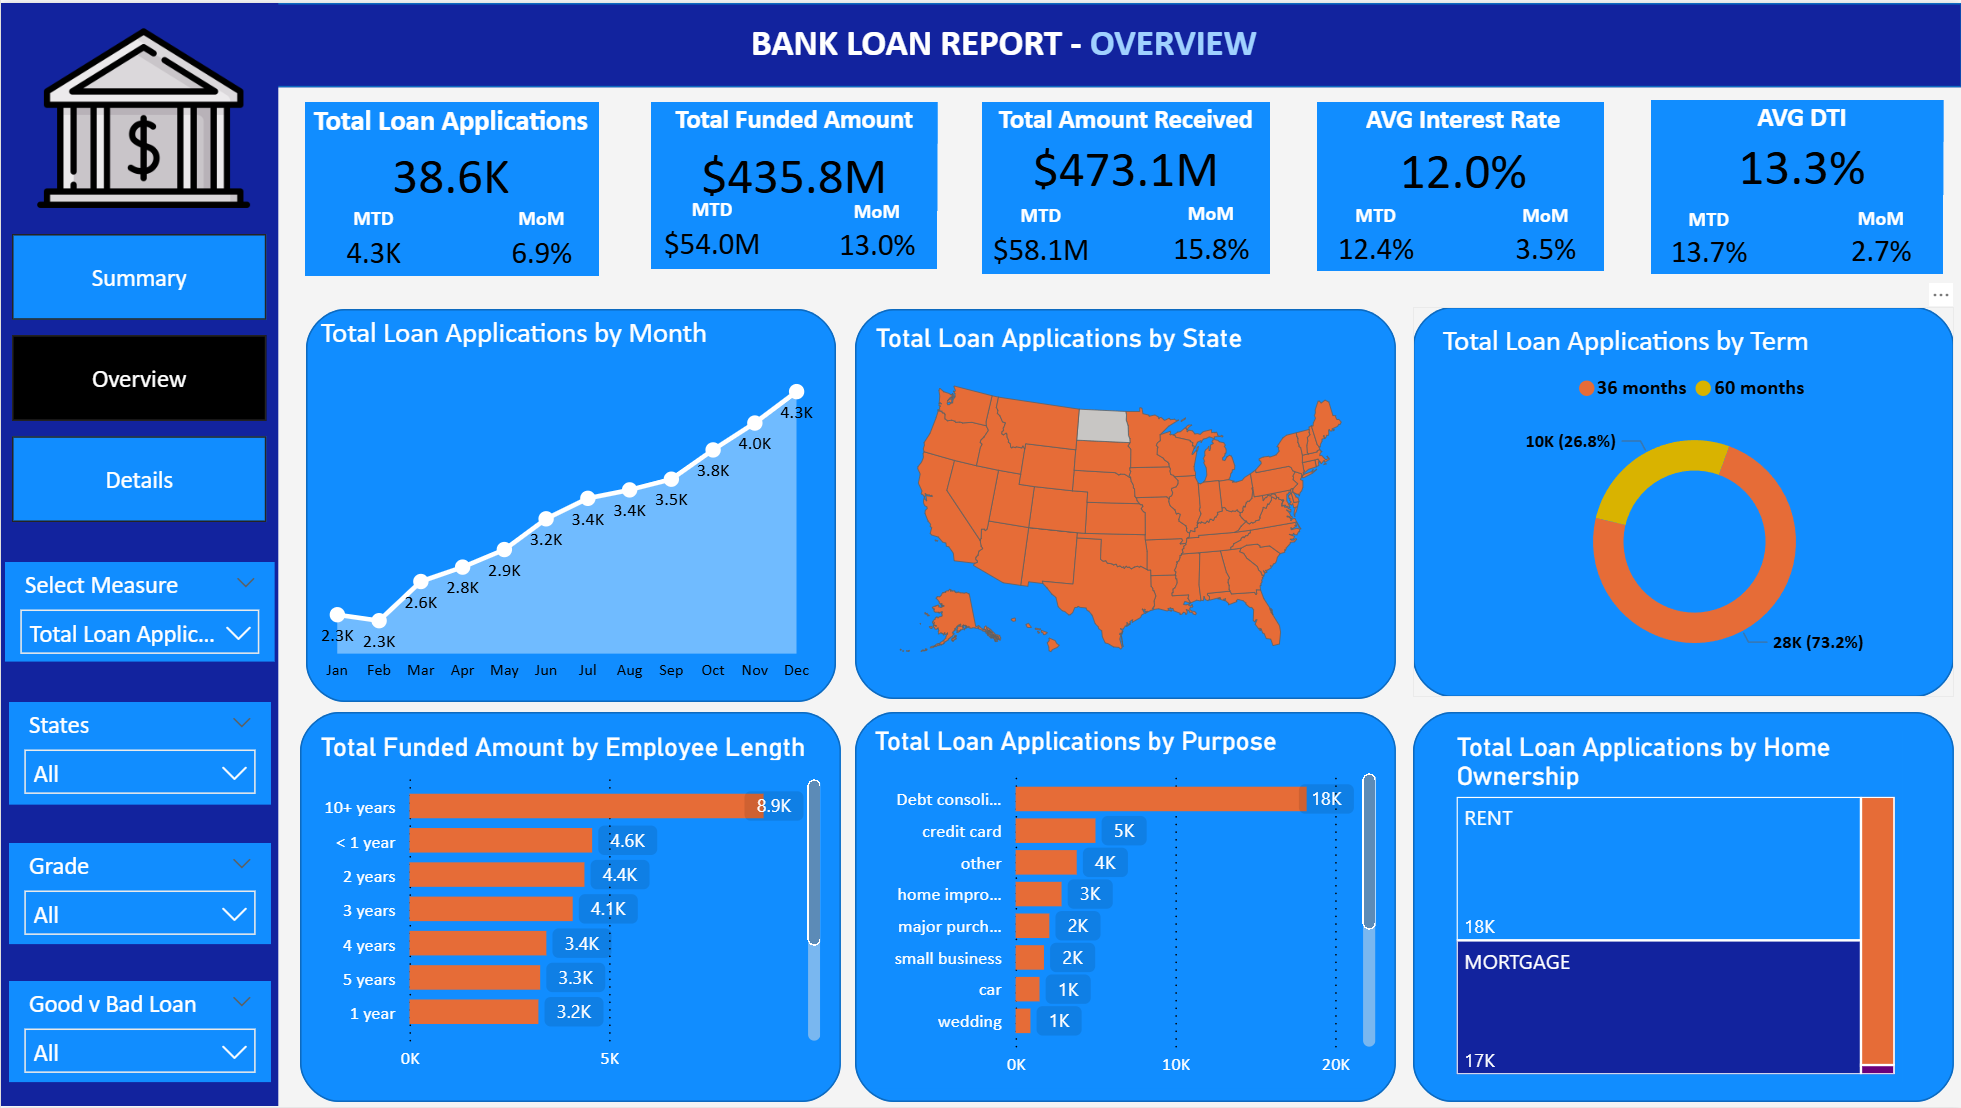

The page's visual inventory and layout, read from the dashboard file:
{"tool":"powerbi","page":{"name":"Overview","canvas":[1280,720],"ordinal":1},"visuals":[{"type":"shape","box":[0,0,1280,55.1],"z":0},{"type":"card","title":"AVG DTI","fields":{"Values":["bank_loan_data.Average DTI"]},"box":[1082.6,63.3,185.2,62.4],"z":0,"group":"g7"},{"type":"card","title":"Total Loan Applications","fields":{"Values":["bank_loan_data.Total Loan Applications"]},"box":[198.3,64.4,190.5,70],"z":0,"group":"g1"},{"type":"card","title":"Total Amount Received","fields":{"Values":["bank_loan_data.Total Amount Received"]},"box":[641.9,64.4,183.8,61.8],"z":0,"group":"g3"},{"type":"card","title":"AVG Interest Rate","fields":{"Values":["bank_loan_data.AVG Interest Rate"]},"box":[862.1,64.4,184.4,65],"z":0,"group":"g6"},{"type":"card","title":"Total Funded Amount","fields":{"Values":["bank_loan_data.Total Funded Amount"]},"box":[424.1,64.9,187,71.4],"z":0,"group":"g4"},{"type":"shape","box":[921.7,198.4,353.1,254.6],"z":0,"group":"g12"},{"type":"shape","box":[199.1,199.7,345.9,256.5],"z":0,"group":"g8"},{"type":"shape","box":[557.4,199.7,353.1,254.6],"z":0,"group":"g13"},{"type":"shape","box":[195.2,462.8,353.1,254.6],"z":0,"group":"g14"},{"type":"shape","box":[557.4,462.8,353.1,254.6],"z":0,"group":"g15"},{"type":"shape","box":[921.7,462.8,353.1,254.6],"z":0,"group":"g16"},{"type":"shape","box":[0,0,181.5,720],"z":1000},{"type":"card","title":"MTD","fields":{"Values":["bank_loan_data.MTD Funded Amount"]},"box":[424.7,126.4,78.5,47.1],"z":1000,"group":"g4"},{"type":"card","title":"MTD","fields":{"Values":["bank_loan_data.MTD AVG Interest Rate"]},"box":[858.7,129.6,76.7,45.2],"z":1000,"group":"g6"},{"type":"card","title":"MTD","fields":{"Values":["bank_loan_data.MTD Amount Received"]},"box":[640,129.9,76.9,46.7],"z":1000,"group":"g3"},{"type":"card","title":"MTD","fields":{"Values":["bank_loan_data.MTD Loan Applications"]},"box":[205.5,131.8,75.2,46.4],"z":1000,"group":"g1"},{"type":"card","title":"MTD","fields":{"Values":["bank_loan_data.MTD Average DTI"]},"box":[1076.9,132.3,75.6,44.5],"z":1000,"group":"g7"},{"type":"textbox","box":[473,6.2,362.9,42],"z":2000},{"type":"card","title":"MoM","fields":{"Values":["bank_loan_data.MoM Funded Amount"]},"box":[532.4,127.6,78.3,45.7],"z":2000,"group":"g4"},{"type":"card","title":"MoM","fields":{"Values":["bank_loan_data.MoM Amount Received"]},"box":[750.8,128.2,77.1,47.5],"z":2000,"group":"g3"},{"type":"card","title":"MoM","fields":{"Values":["bank_loan_data.MoM AVG Interest Rate"]},"box":[969.8,129.5,76.4,45.4],"z":2000,"group":"g6"},{"type":"card","title":"MoM","fields":{"Values":["bank_loan_data.MoM Calculations"]},"box":[315.1,131.9,75.2,46.4],"z":2000,"group":"g1"},{"type":"card","title":"MoM","fields":{"Values":["bank_loan_data.MoM AVG DTI"]},"box":[1189.2,131.9,75.7,44.8],"z":2000,"group":"g7"},{"type":"group","id":"g1","title":"Group 1","box":[198.3,64.4,192,113.9],"z":3000},{"type":"group","id":"g2","title":"Group 1","box":[424.1,64.9,187,108.6],"z":4000},{"type":"group","id":"g3","title":"Group 2","box":[640,64.4,187.9,112.2],"z":4001,"group":"g5"},{"type":"group","id":"g4","title":"Group 2","box":[424.1,64.9,187,108.6],"z":4001,"group":"g2"},{"type":"group","id":"g5","title":"Group 1","box":[640,64.4,187.9,112.2],"z":5000},{"type":"group","id":"g6","title":"Group 1","box":[858.7,64.4,187.8,110.6],"z":6000},{"type":"group","id":"g7","title":"Group 1","box":[1076.9,63.3,190.9,113.5],"z":7000},{"type":"group","id":"g8","title":"Group 3","box":[199.1,199.7,345.9,256.5],"z":8000,"group":"g10"},{"type":"slicer","fields":{"Values":["bank_loan_data.address_state"]},"box":[5.2,456.3,171,66.6],"z":8000},{"type":"slicer","fields":{"Values":["bank_loan_data.grade"]},"box":[5.2,548.3,171,65.9],"z":9000},{"type":"slicer","fields":{"Values":["bank_loan_data.Good v Bad Loans"]},"box":[5.2,638.4,171,65.9],"z":10000},{"type":"slicer","title":"Select Measure","fields":{"Values":["Select Measure.Select Measure"]},"box":[2.6,364.9,176.2,65.3],"z":11000},{"type":"group","id":"g9","title":"Group 4","box":[557.4,199.7,353.1,254.6],"z":12000},{"type":"stackedAreaChart","fields":{"Y":["bank_loan_data.Total Loan Applications"],"Category":["Date Table.Month"]},"box":[203.9,203.2,331.6,247.7],"z":12000,"group":"g10"},{"type":"group","id":"g10","title":"Group 5","box":[199.1,199.7,345.9,256.5],"z":13000},{"type":"group","id":"g11","title":"Group 4","box":[921.7,198.4,353.1,254.6],"z":14000},{"type":"group","id":"g12","title":"Group 3","box":[921.7,198.4,353.1,254.6],"z":14000,"group":"g11"},{"type":"group","id":"g13","title":"Group 3","box":[557.4,199.7,353.1,254.6],"z":14000,"group":"g9"},{"type":"group","id":"g14","title":"Group 3","box":[195.2,462.8,353.1,254.6],"z":14000,"group":"g17"},{"type":"shapeMap","title":"Total Loan Applications by State","fields":{"Category":["bank_loan_data.address_state"]},"box":[566.2,208,329.9,238],"z":15000,"group":"g9"},{"type":"group","id":"g15","title":"Group 3","box":[557.4,462.8,353.1,254.6],"z":15000},{"type":"barChart","fields":{"Y":["bank_loan_data.Total Loan Applications"],"Category":["bank_loan_data.purpose"]},"box":[565.3,471.3,336.8,236.9],"z":15004,"group":"g18"},{"type":"group","id":"g16","title":"Group 3","box":[921.7,462.8,353.1,254.6],"z":16000},{"type":"donutChart","fields":{"Y":["bank_loan_data.Total Loan Applications"],"Category":["bank_loan_data.term"]},"box":[936,208.2,338.8,235],"z":17000},{"type":"group","id":"g17","title":"Group 4","box":[195.2,462.8,353.1,254.6],"z":18000},{"type":"barChart","title":"Total Funded Amount by Employee Length","fields":{"Y":["bank_loan_data.Total Loan Applications"],"Category":["bank_loan_data.emp_length"]},"box":[203.7,475.2,336.2,229.1],"z":19000},{"type":"group","id":"g18","title":"Group 4","box":[565.3,471.3,336.8,236.9],"z":20000},{"type":"treemap","title":"Total Loan Applications by Home Ownership","fields":{"Values":["bank_loan_data.Total Loan Applications"],"Group":["bank_loan_data.home_ownership"]},"box":[945.2,475.2,295.7,229.1],"z":21000},{"type":"pageNavigator","box":[7.2,150.8,166.4,189.9],"z":22000},{"type":"image","box":[2.6,0.7,181.5,149.5],"z":23000}]}

Visuals, with their boxes in screenshot pixels (x1, y1, x2, y2), scaled from the page's 1280x720 canvas onto the 1961x1108 screenshot:
shape: <region>0, 0, 1960, 85</region>
"AVG DTI" card: <region>1659, 97, 1942, 193</region>
"Total Loan Applications" card: <region>304, 99, 596, 207</region>
"Total Amount Received" card: <region>983, 99, 1265, 194</region>
"AVG Interest Rate" card: <region>1321, 99, 1603, 199</region>
"Total Funded Amount" card: <region>650, 100, 936, 210</region>
shape: <region>1412, 305, 1953, 697</region>
shape: <region>305, 307, 835, 702</region>
shape: <region>854, 307, 1395, 699</region>
shape: <region>299, 712, 840, 1104</region>
shape: <region>854, 712, 1395, 1104</region>
shape: <region>1412, 712, 1953, 1104</region>
shape: <region>0, 0, 278, 1107</region>
"MTD" card: <region>651, 195, 771, 267</region>
"MTD" card: <region>1316, 199, 1433, 269</region>
"MTD" card: <region>980, 200, 1098, 272</region>
"MTD" card: <region>315, 203, 430, 274</region>
"MTD" card: <region>1650, 204, 1766, 272</region>
textbox: <region>725, 10, 1281, 74</region>
"MoM" card: <region>816, 196, 936, 267</region>
"MoM" card: <region>1150, 197, 1268, 270</region>
"MoM" card: <region>1486, 199, 1603, 269</region>
"MoM" card: <region>483, 203, 598, 274</region>
"MoM" card: <region>1822, 203, 1938, 272</region>
"Group 1" group: <region>304, 99, 598, 274</region>
"Group 1" group: <region>650, 100, 936, 267</region>
"Group 2" group: <region>980, 99, 1268, 272</region>
"Group 2" group: <region>650, 100, 936, 267</region>
"Group 1" group: <region>980, 99, 1268, 272</region>
"Group 1" group: <region>1316, 99, 1603, 269</region>
"Group 1" group: <region>1650, 97, 1942, 272</region>
"Group 3" group: <region>305, 307, 835, 702</region>
slicer - bank_loan_data.address_state: <region>8, 702, 270, 805</region>
slicer - bank_loan_data.grade: <region>8, 844, 270, 945</region>
slicer - bank_loan_data.Good v Bad Loans: <region>8, 982, 270, 1084</region>
"Select Measure" slicer: <region>4, 562, 274, 662</region>
"Group 4" group: <region>854, 307, 1395, 699</region>
stackedAreaChart - bank_loan_data.Total Loan Applications x Date Table.Month: <region>312, 313, 820, 694</region>
"Group 5" group: <region>305, 307, 835, 702</region>
"Group 4" group: <region>1412, 305, 1953, 697</region>
"Group 3" group: <region>1412, 305, 1953, 697</region>
"Group 3" group: <region>854, 307, 1395, 699</region>
"Group 3" group: <region>299, 712, 840, 1104</region>
"Total Loan Applications by State" shapeMap: <region>867, 320, 1373, 686</region>
"Group 3" group: <region>854, 712, 1395, 1104</region>
barChart - bank_loan_data.Total Loan Applications x bank_loan_data.purpose: <region>866, 725, 1382, 1090</region>
"Group 3" group: <region>1412, 712, 1953, 1104</region>
donutChart - bank_loan_data.Total Loan Applications x bank_loan_data.term: <region>1434, 320, 1953, 682</region>
"Group 4" group: <region>299, 712, 840, 1104</region>
"Total Funded Amount by Employee Length" barChart: <region>312, 731, 827, 1084</region>
"Group 4" group: <region>866, 725, 1382, 1090</region>
"Total Loan Applications by Home Ownership" treemap: <region>1448, 731, 1901, 1084</region>
pageNavigator: <region>11, 232, 266, 524</region>
image: <region>4, 1, 282, 231</region>
